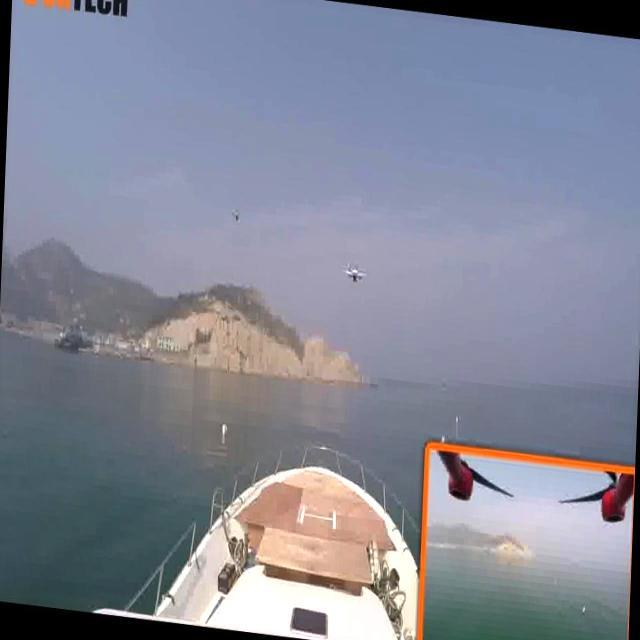drone: (339, 248, 367, 292), (229, 207, 249, 230)
